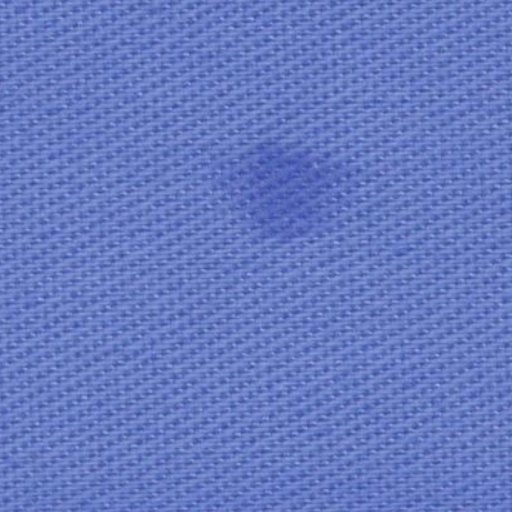WuZi: (210, 126, 372, 246)
